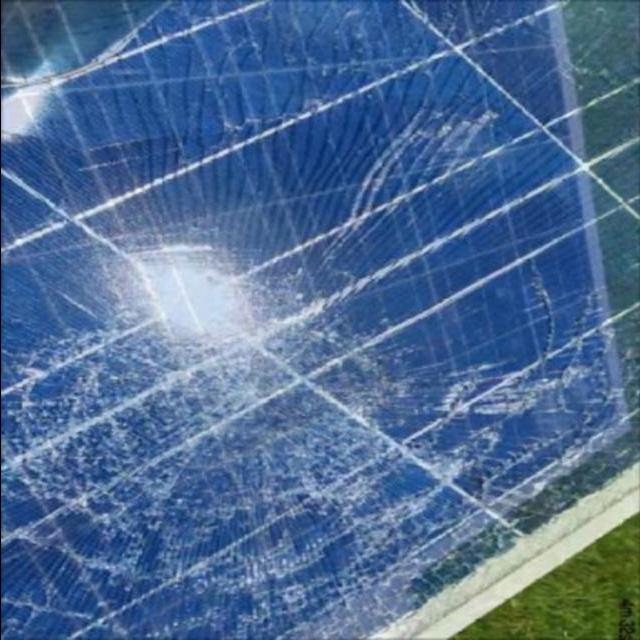cracked: (3, 5, 632, 638)
